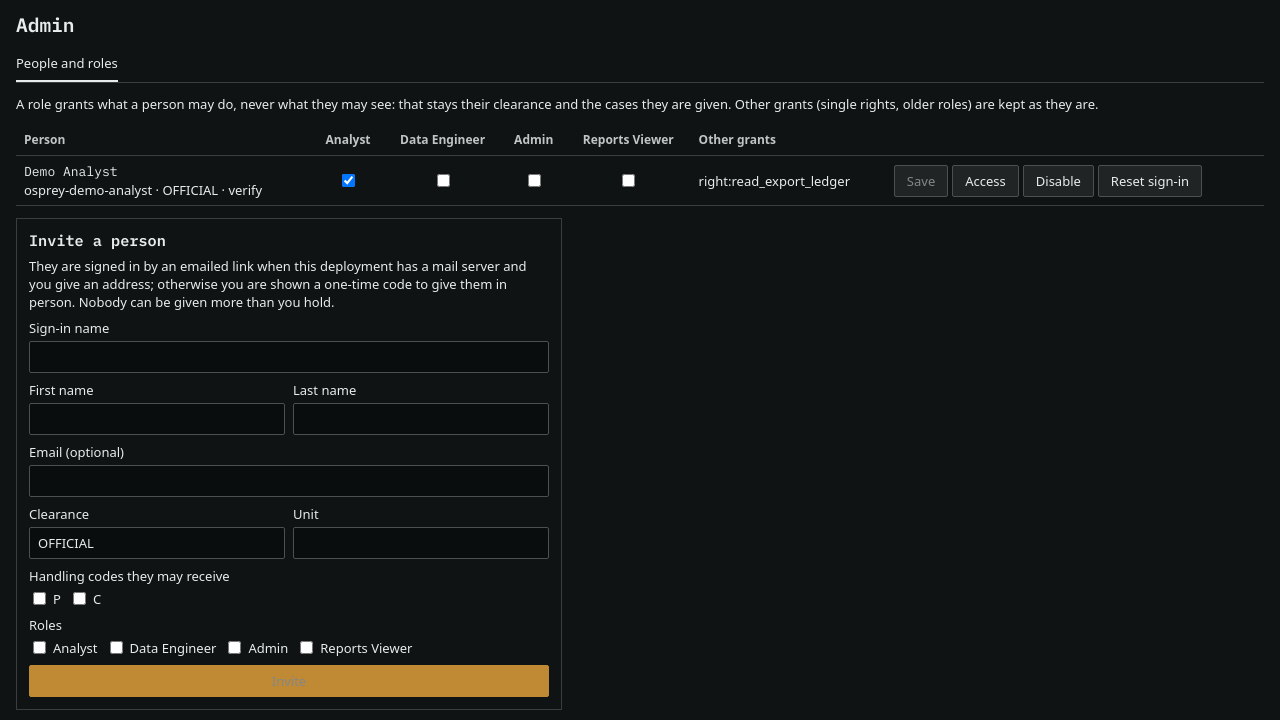
the Admin area › saves a person's roles whole, keeping their other grants
The image size is (1280, 720).
Click the checkbox named "Reports Viewer for osprey-demo-analyst" at (629, 180), box [622,174,635,186]
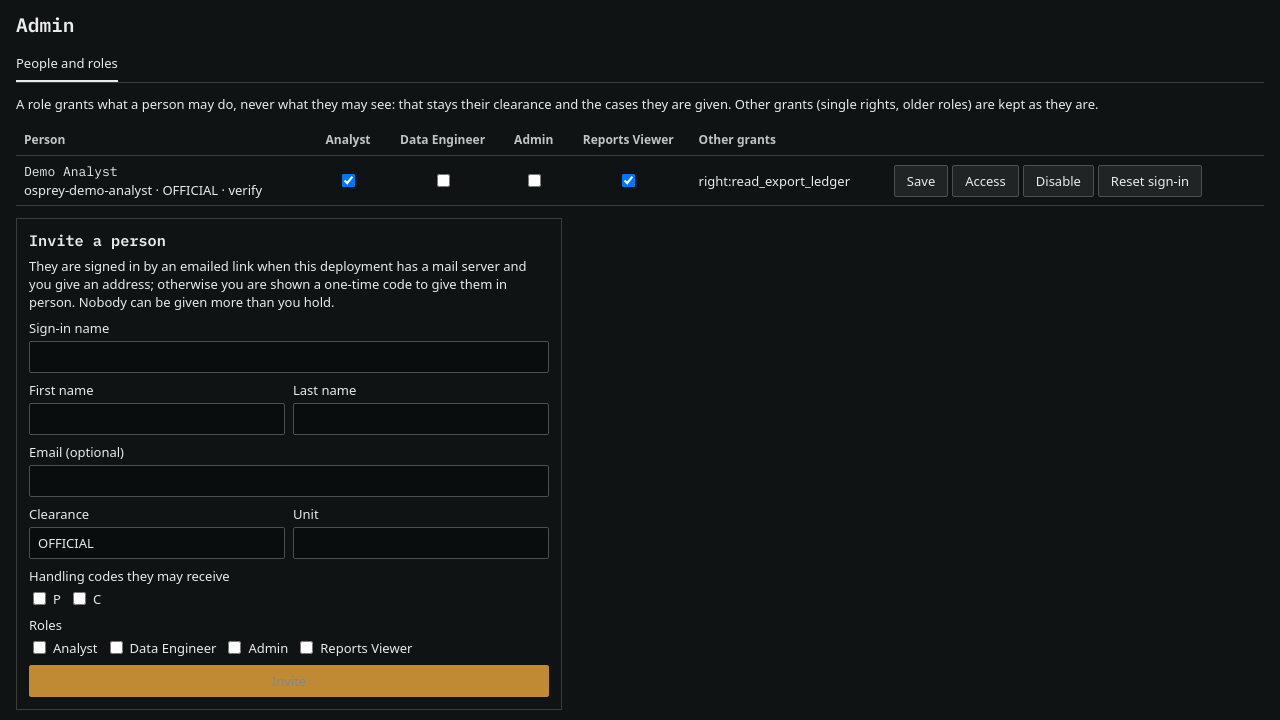
Click the button with aria-label "Save roles for osprey-demo-analyst" at (921, 180), box [894,164,948,196]
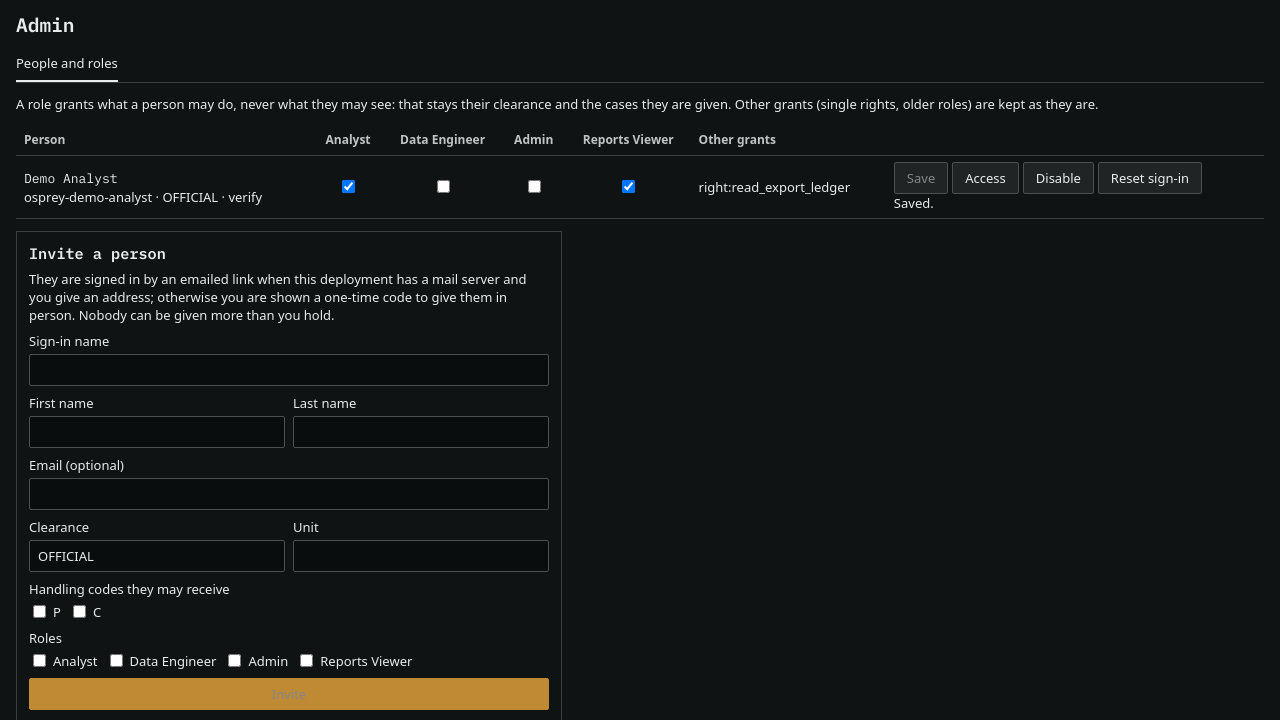
Result: the text "Saved." is shown at [894,194,934,212]
